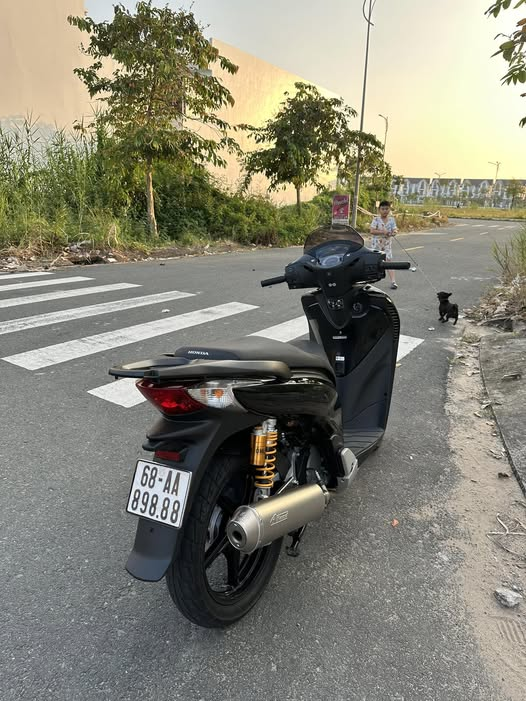bien_so: (121, 451, 195, 534)
